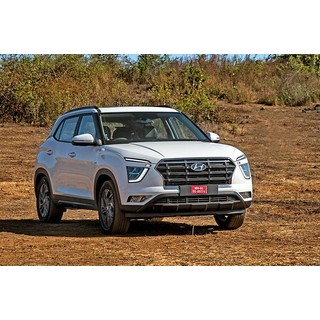car: (32, 105, 251, 235)
